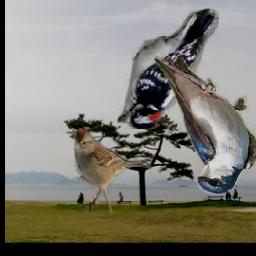Sparrow: (72, 126, 153, 213)
Swallow: (154, 57, 256, 196)
Woodpecker: (116, 9, 218, 130)
